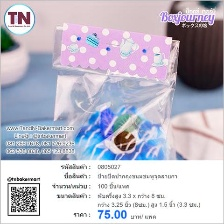snack: (42, 14, 186, 159)
